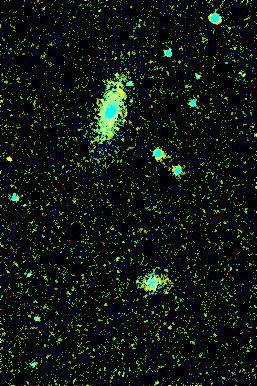star: (0, 146, 24, 176)
